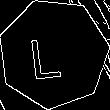L_N: (36, 26, 72, 81)
